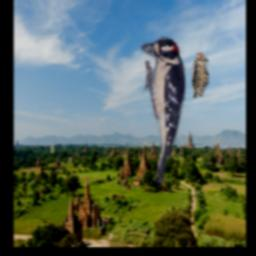Woodpecker: (143, 35, 187, 184), (192, 54, 210, 99)
